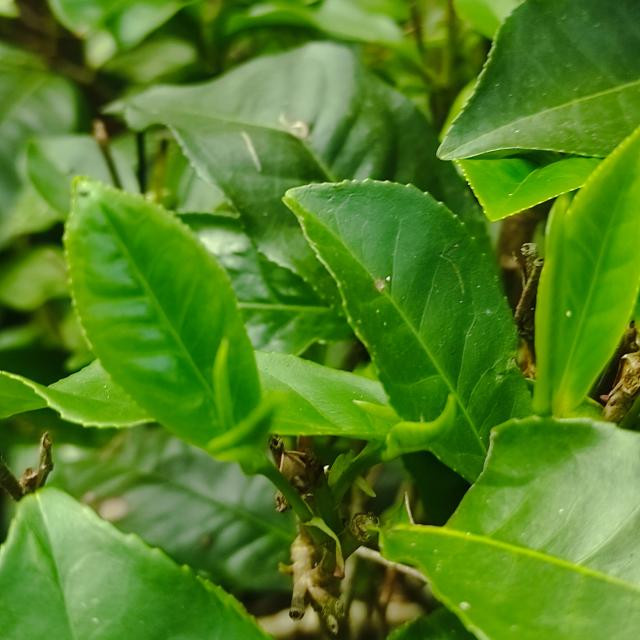unopened_leaf: (522, 183, 583, 418), (377, 386, 471, 462), (210, 332, 241, 436)
